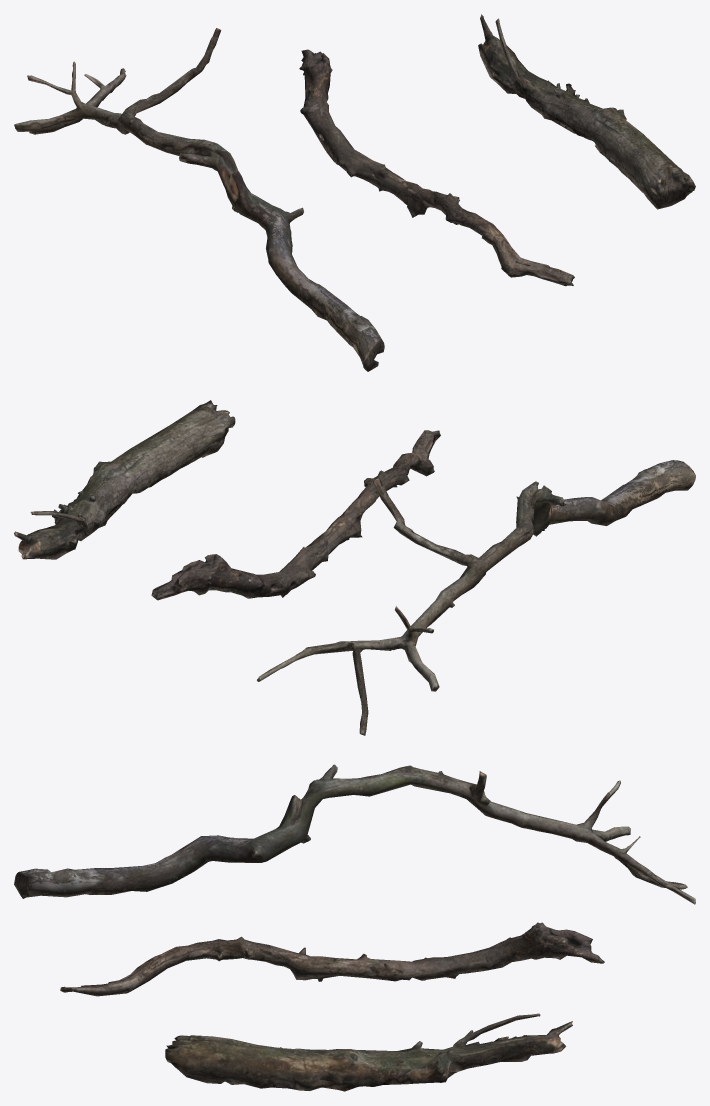
File: branches-dry.c20db468.glb
The picture shows the model from 3 angles, top to bottom: view 1: azimuth 30°, elevation 25°; view 2: azimuth 150°, elevation 25°; view 3: azimuth 270°, elevation 25°; orthographic projection. The views are drawn at different scales.
Visible parts, largest first — view 1: model; view 2: model; view 3: model.
Boxes of the visible parts, x1,y1,x2,y2 form: model: [14, 14, 695, 371]; model: [14, 400, 695, 735]; model: [14, 764, 695, 1091].
Size of the model in its own units: 1.06 by 0.341 by 1.3.
Materials: 1 (1 with a texture image).
